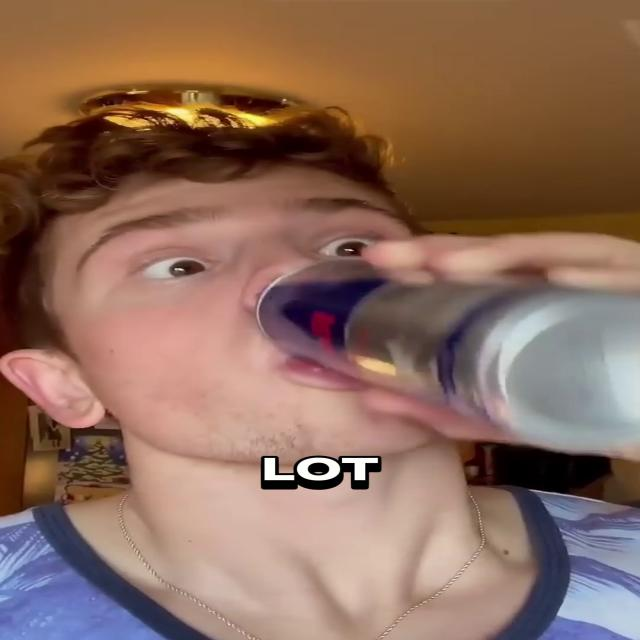Can: (256, 260, 639, 452)
Hand: (345, 222, 640, 460)
Mouth: (243, 337, 415, 395)
